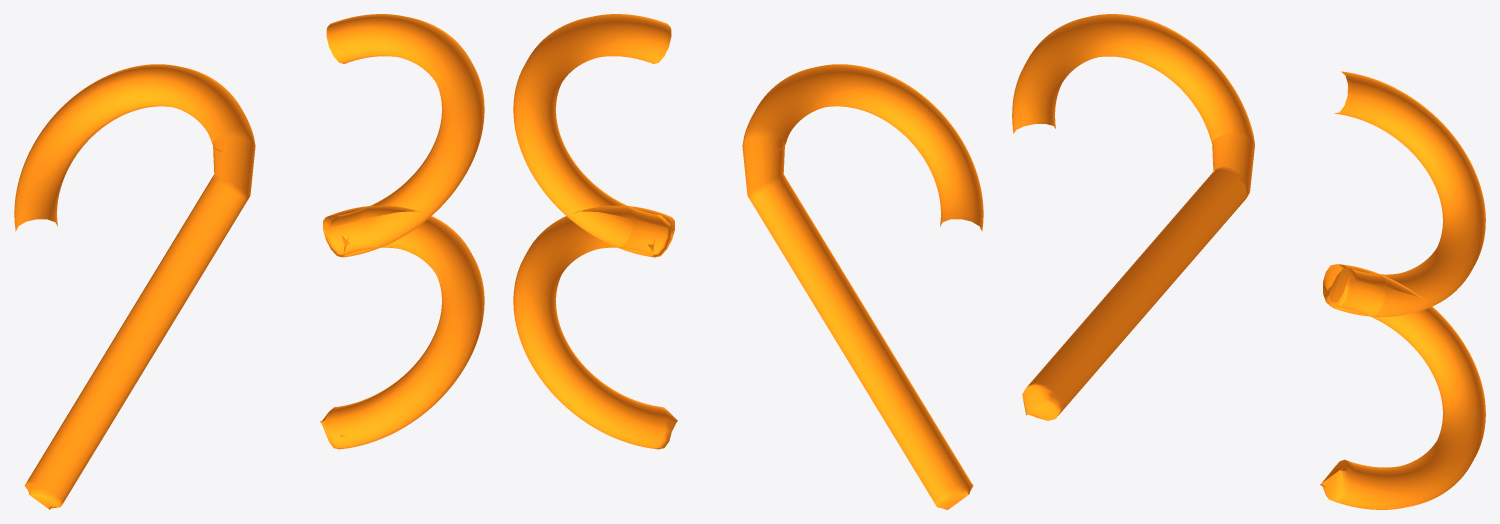
3 views of the same model, side by side, from view 1: azimuth 30°, elevation 25°; view 2: azimuth 150°, elevation 25°; view 3: azimuth 330°, elevation 25° (orthographic).
Visible parts, largest first — view 1: MorphMesh; view 2: MorphMesh; view 3: MorphMesh.
Part boxes in pixels (bbox=[...]): MorphMesh: bbox=[14, 14, 484, 509]; MorphMesh: bbox=[513, 14, 983, 509]; MorphMesh: bbox=[1012, 14, 1485, 509].
Bounding box in the file's own units: 2.64 × 2.33 × 0.21.
